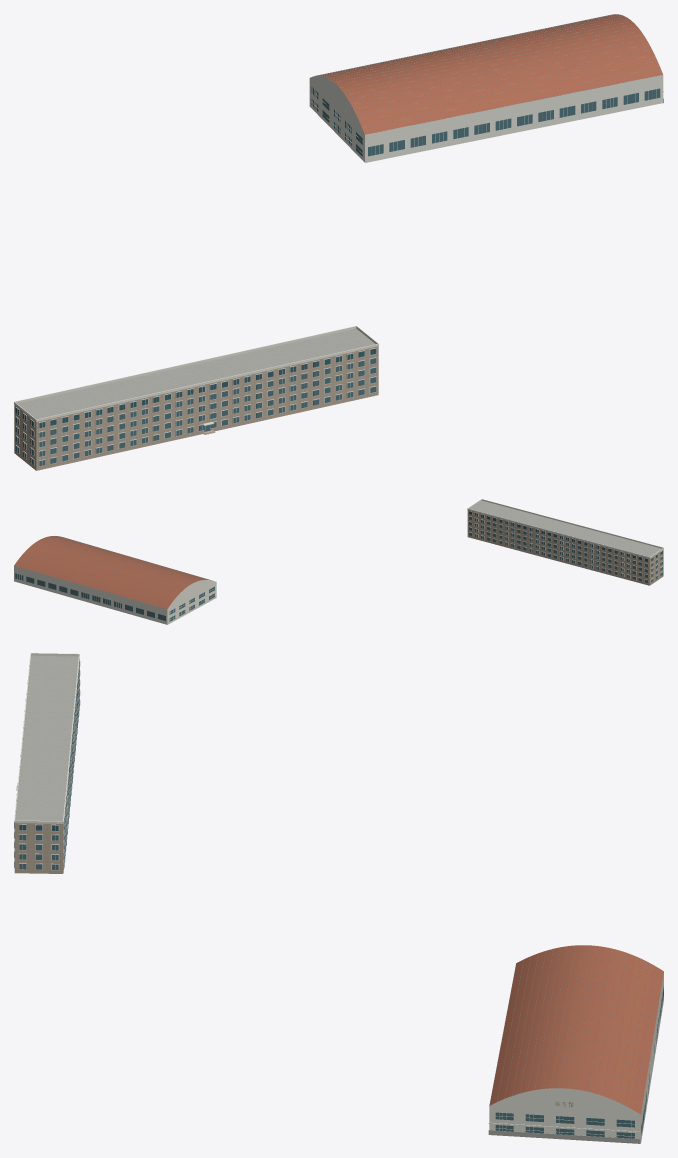
The model's file is chunk-n2-p3.glb.
3 renders of one model, top to bottom at view 1: azimuth 30°, elevation 25°; view 2: azimuth 150°, elevation 25°; view 3: azimuth 270°, elevation 25°, orthographic. The views are drawn at different scales.
Visible parts, largest first — view 1: chunk-n2-p3; view 2: chunk-n2-p3; view 3: chunk-n2-p3.
Part boxes in pixels (left/top/right/bottom): chunk-n2-p3: left=14, top=14, right=663, bottom=470; chunk-n2-p3: left=14, top=499, right=663, bottom=624; chunk-n2-p3: left=14, top=653, right=663, bottom=1143.
Bounding box in the file's own units: 315 × 18.93 × 199.
Materials: 7 (2 with a texture image).
